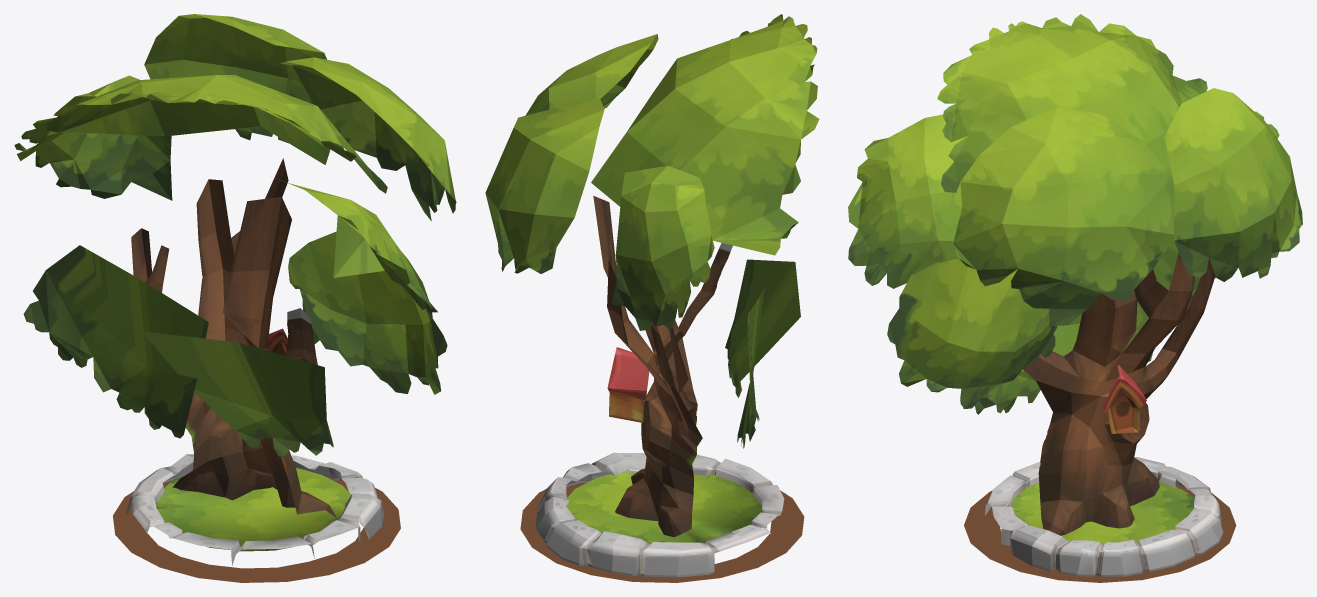
File: DecoCenterpieceTreeBigOak.fbx
The picture shows the model from 3 angles, left to right: view 1: azimuth 30°, elevation 25°; view 2: azimuth 150°, elevation 25°; view 3: azimuth 270°, elevation 25°; orthographic projection. The views are drawn at different scales.
Parts seen in each view (by area): view 1: TreeOakBigCanopy3, TreeOakBigCanopy2, TreeOakBigCanopy1, TreeOakBigTrunk, TreeOakBigBase; view 2: TreeOakBigCanopy1, TreeOakBigCanopy3, TreeOakBigBase, TreeOakBigTrunk, TreeOakBigCanopy2, TreeOakBigBirdhouse; view 3: TreeOakBigCanopy2, TreeOakBigCanopy1, TreeOakBigTrunk, TreeOakBigCanopy3, TreeOakBigBase, TreeOakBigBirdhouse.
Boxes of the visible parts, left/top/right/bottom form: TreeOakBigCanopy3: left=21, top=14, right=326, bottom=438; TreeOakBigCanopy2: left=279, top=57, right=456, bottom=394; TreeOakBigCanopy1: left=14, top=75, right=387, bottom=456; TreeOakBigTrunk: left=131, top=158, right=335, bottom=517; TreeOakBigBase: left=113, top=454, right=400, bottom=582; TreeOakBigCanopy1: left=591, top=14, right=819, bottom=397; TreeOakBigCanopy3: left=485, top=97, right=764, bottom=448; TreeOakBigBase: left=520, top=452, right=804, bottom=582; TreeOakBigTrunk: left=593, top=196, right=732, bottom=537; TreeOakBigCanopy2: left=525, top=34, right=658, bottom=115; TreeOakBigBirdhouse: left=607, top=347, right=649, bottom=422; TreeOakBigCanopy2: left=848, top=106, right=1174, bottom=408; TreeOakBigCanopy1: left=937, top=14, right=1207, bottom=414; TreeOakBigTrunk: left=1023, top=252, right=1215, bottom=535; TreeOakBigCanopy3: left=1068, top=88, right=1302, bottom=361; TreeOakBigBase: left=964, top=457, right=1236, bottom=582; TreeOakBigBirdhouse: left=1101, top=364, right=1146, bottom=433.
Bounding box in the file's own units: 6.26 × 8.57 × 7.71.
